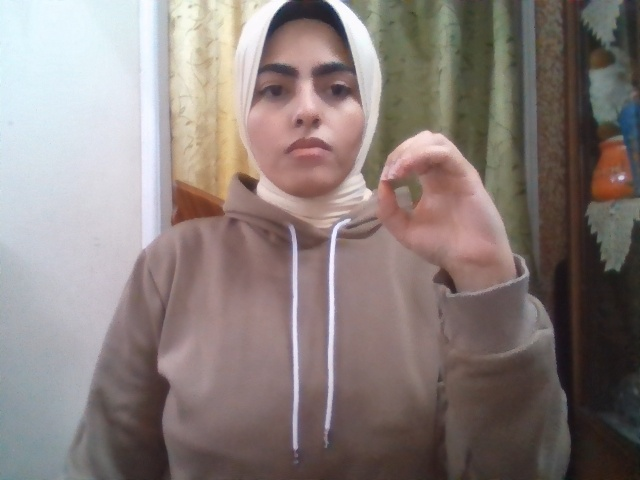O: (375, 131, 509, 268)
